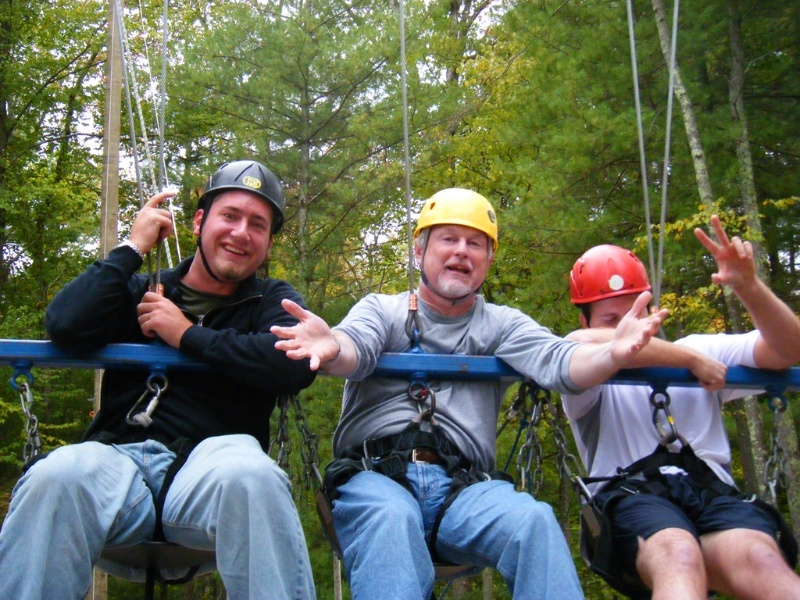Baret: (569, 244, 652, 303), (203, 160, 291, 214), (415, 185, 500, 240)
